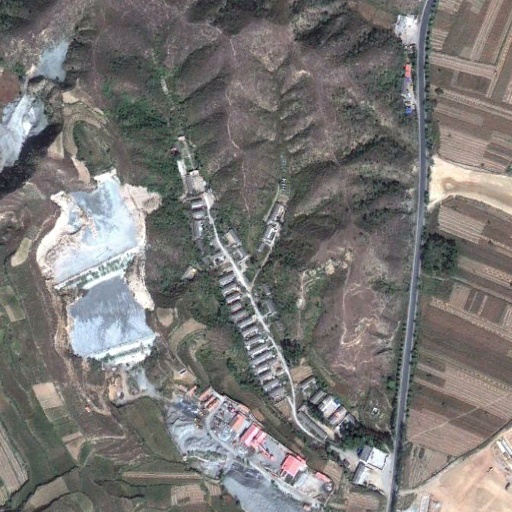tp: (41, 175, 156, 362)
